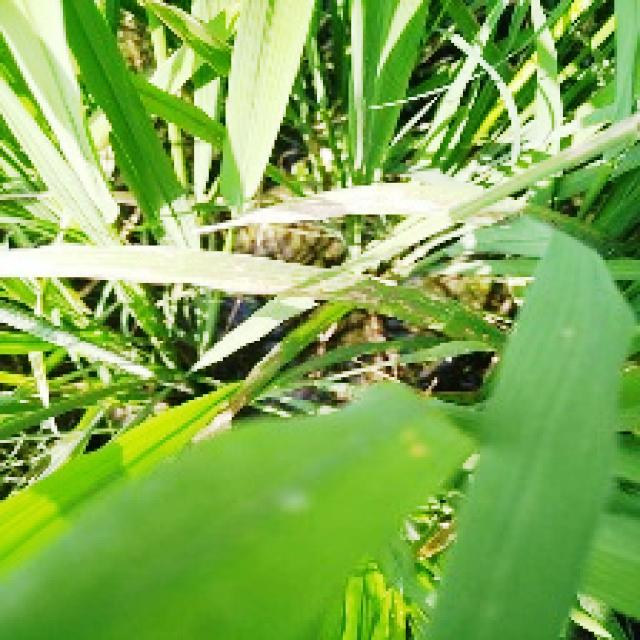health: (0, 171, 629, 623)
